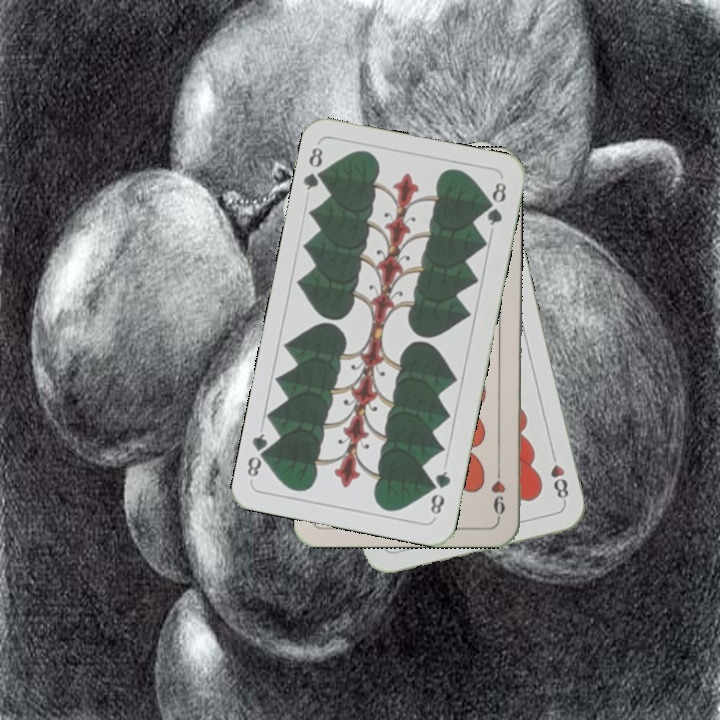G8: (299, 143, 330, 193), (426, 467, 453, 520)
H8: (546, 447, 571, 506)
H9: (487, 462, 508, 521)
